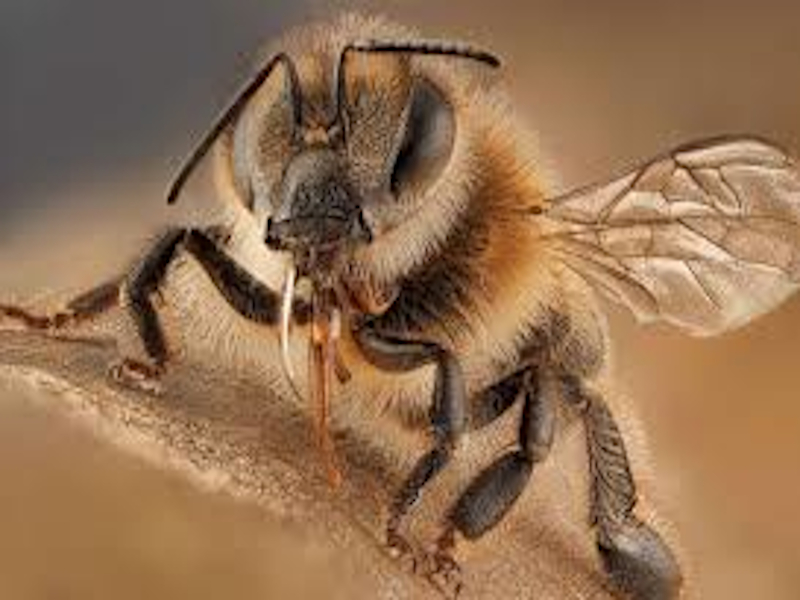abeja: (37, 8, 800, 593)
